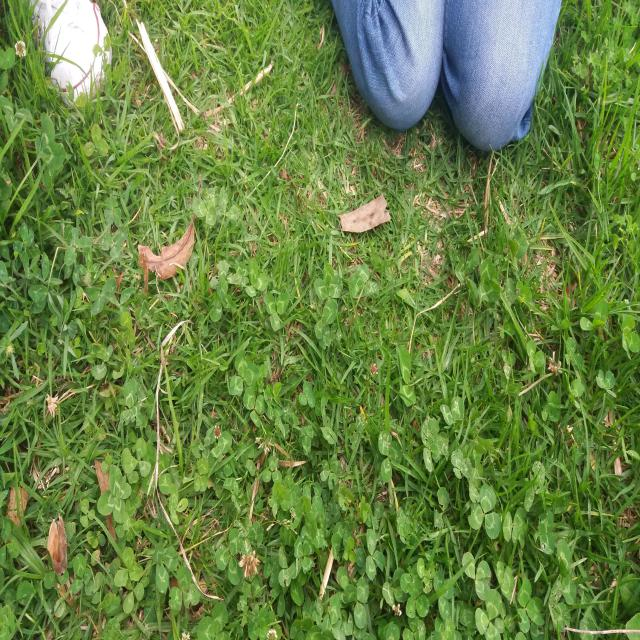Four Leaf Clover: (97, 465, 131, 524), (503, 277, 521, 310), (232, 260, 249, 287)
